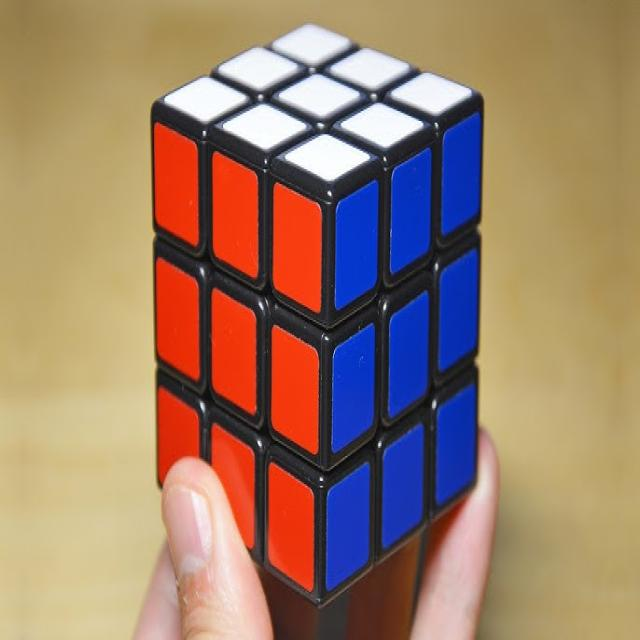Cubo-Resuelto: (153, 25, 481, 602)
